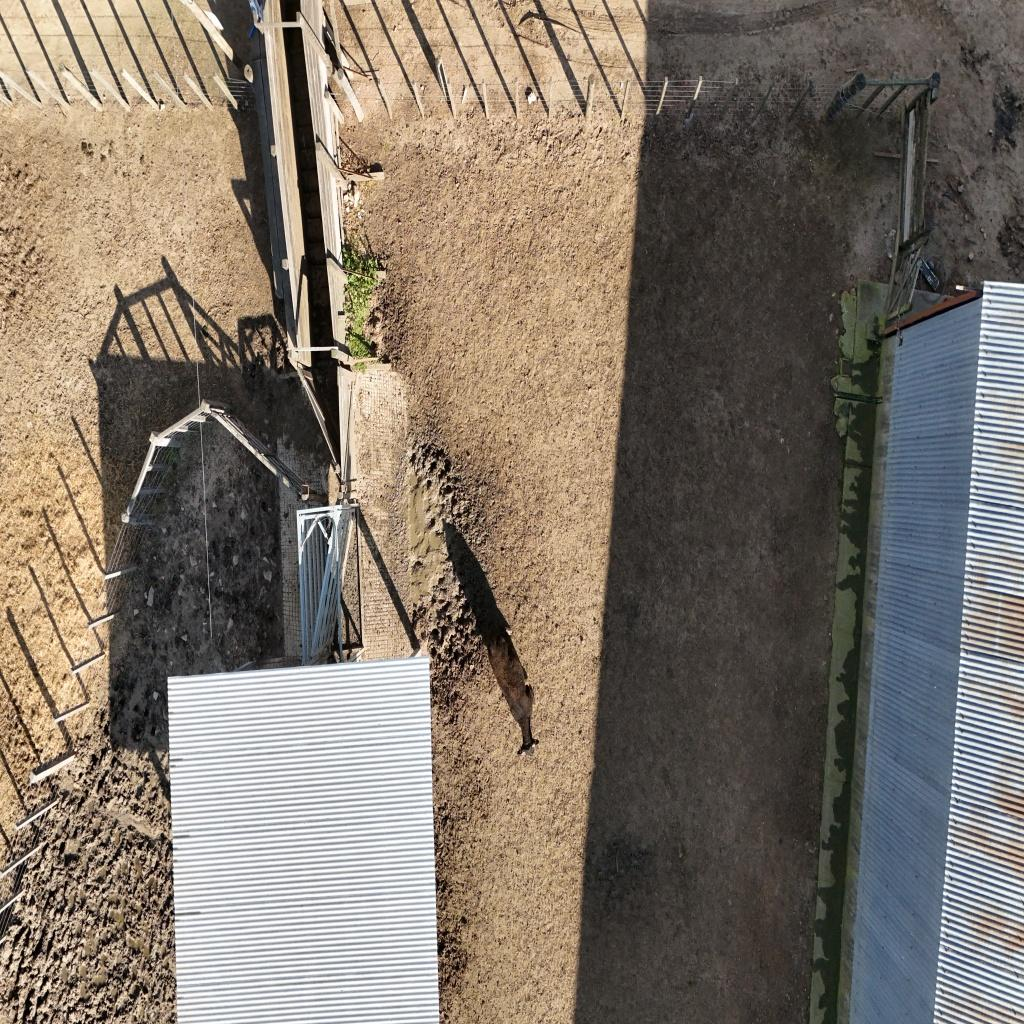cow: (467, 612, 548, 758)
